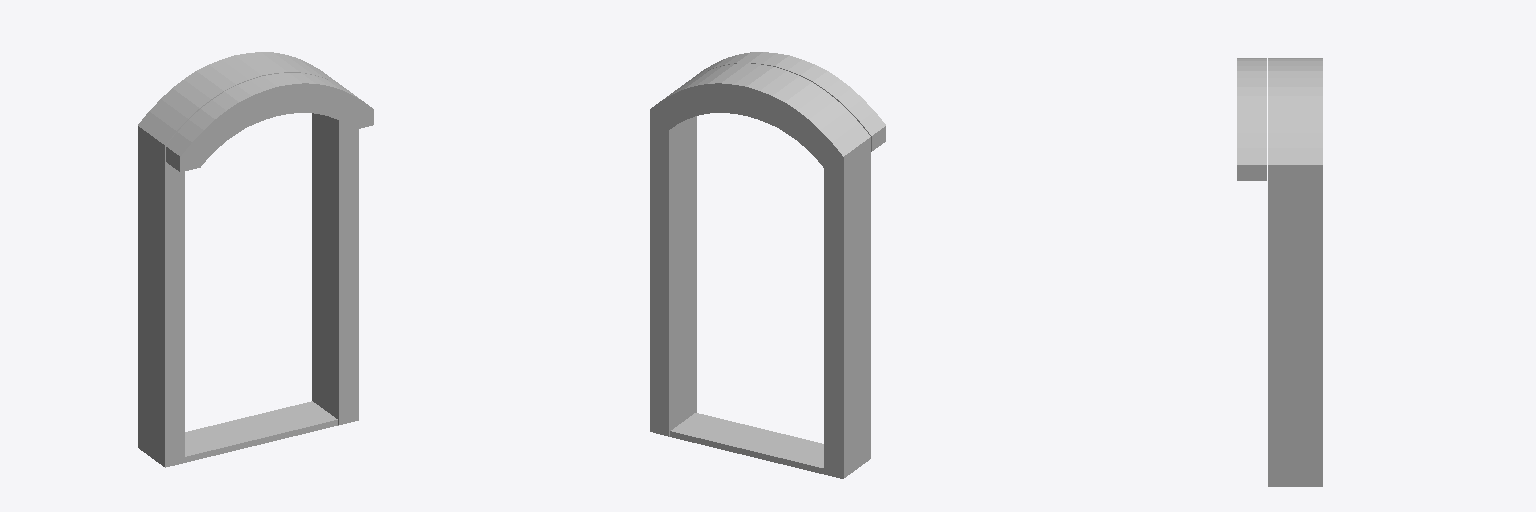
Rendered from DoorFrame_Round_WoodLight.obj.
3 views of the same model, side by side, from view 1: azimuth 30°, elevation 25°; view 2: azimuth 150°, elevation 25°; view 3: azimuth 270°, elevation 25° (orthographic).
Visible parts, largest first — view 1: DoorFrame_Round_WoodLight; view 2: DoorFrame_Round_WoodLight; view 3: DoorFrame_Round_WoodLight.
Part boxes in pixels (bbox=[...]): DoorFrame_Round_WoodLight: bbox=[138, 52, 373, 467]; DoorFrame_Round_WoodLight: bbox=[650, 52, 885, 478]; DoorFrame_Round_WoodLight: bbox=[1237, 58, 1322, 486].
Size of the model in its own units: 1.41 by 2.56 by 0.539.